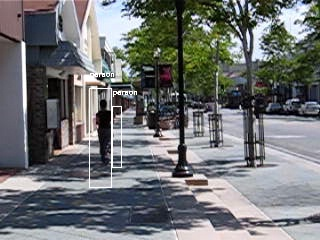person: (95, 100, 116, 166), (94, 100, 115, 166), (96, 100, 117, 166), (95, 99, 116, 165), (95, 101, 116, 167)
target_negative: (15, 149, 176, 226), (156, 28, 236, 49), (119, 96, 196, 111), (217, 131, 233, 199), (266, 86, 277, 183), (251, 225, 264, 236)
